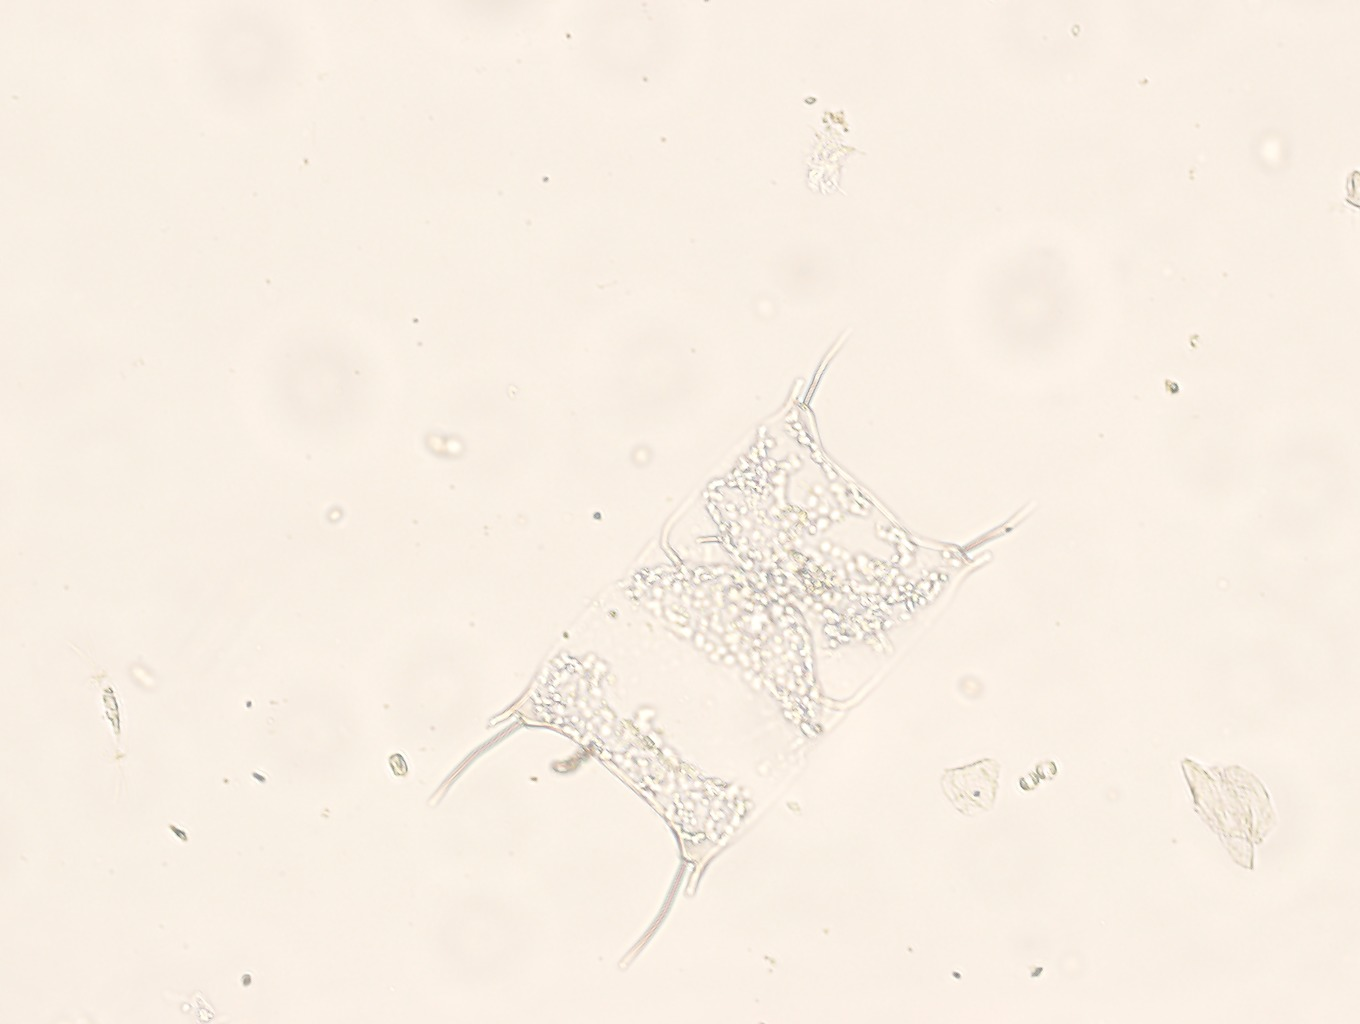biddulphia: (427, 337, 1042, 975)
